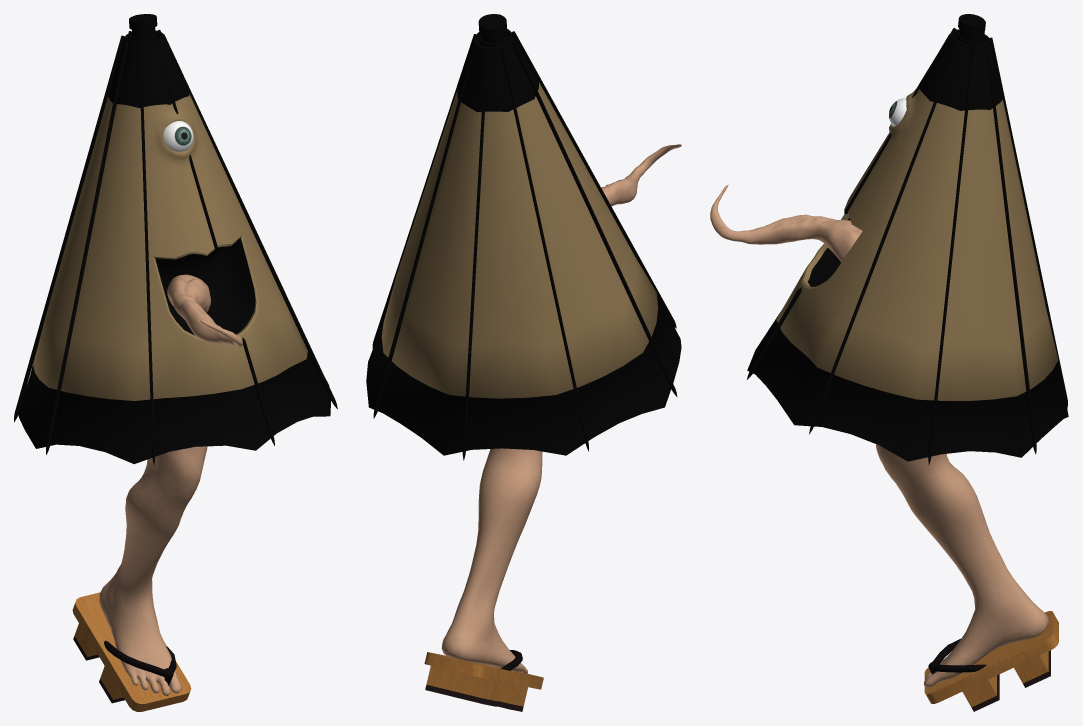
File: spirit1.glb
The picture shows the model from 3 angles, left to right: view 1: azimuth 30°, elevation 25°; view 2: azimuth 150°, elevation 25°; view 3: azimuth 270°, elevation 25°; orthographic projection.
Visible parts, largest first — view 1: Object_17, Object_4, Object_6, Object_8, Object_13, Object_11, Object_21; view 2: Object_17, Object_4, Object_6, Object_8, Object_13, Object_9; view 3: Object_17, Object_4, Object_6, Object_8, Object_13, Object_11.
Boxes of the visible parts, x1,y1,x2,y2 form: Object_17: [33, 94, 307, 400]; Object_4: [14, 14, 337, 465]; Object_6: [99, 446, 207, 696]; Object_8: [72, 592, 191, 711]; Object_13: [167, 274, 242, 346]; Object_11: [104, 640, 176, 685]; Object_21: [163, 121, 193, 151]; Object_17: [381, 82, 658, 398]; Object_4: [366, 14, 681, 460]; Object_6: [441, 448, 542, 673]; Object_8: [424, 652, 543, 706]; Object_13: [601, 144, 681, 206]; Object_9: [425, 684, 523, 711]; Object_17: [776, 85, 1058, 400]; Object_4: [747, 14, 1068, 464]; Object_6: [876, 444, 1048, 687]; Object_8: [924, 611, 1058, 707]; Object_13: [710, 185, 862, 262]; Object_11: [928, 639, 986, 674].
Size of what is drawn, in the model's own units: 0.9085 by 2.1 by 1.
Materials: 9 (4 with a texture image).
